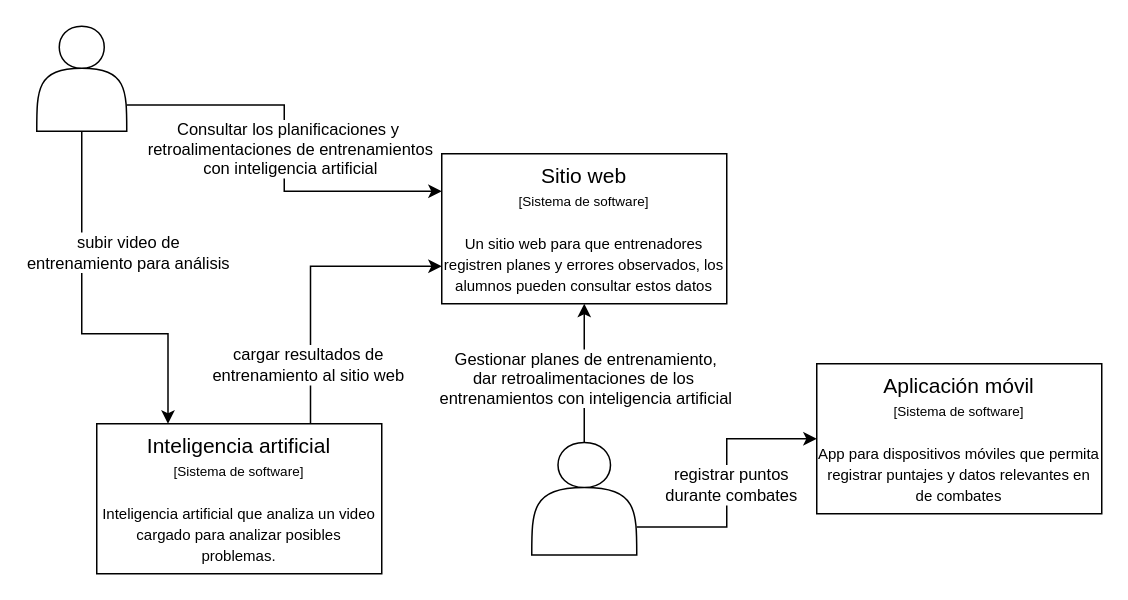
The diagram is 1128 pixels wide and 600 high, and some of its shapes have lost their labels. The centre of each missing label's shape, as x and y in pixels:
Entrenador [persona]: point (583, 498)
Esgrimista [persona]: point (81, 78)
